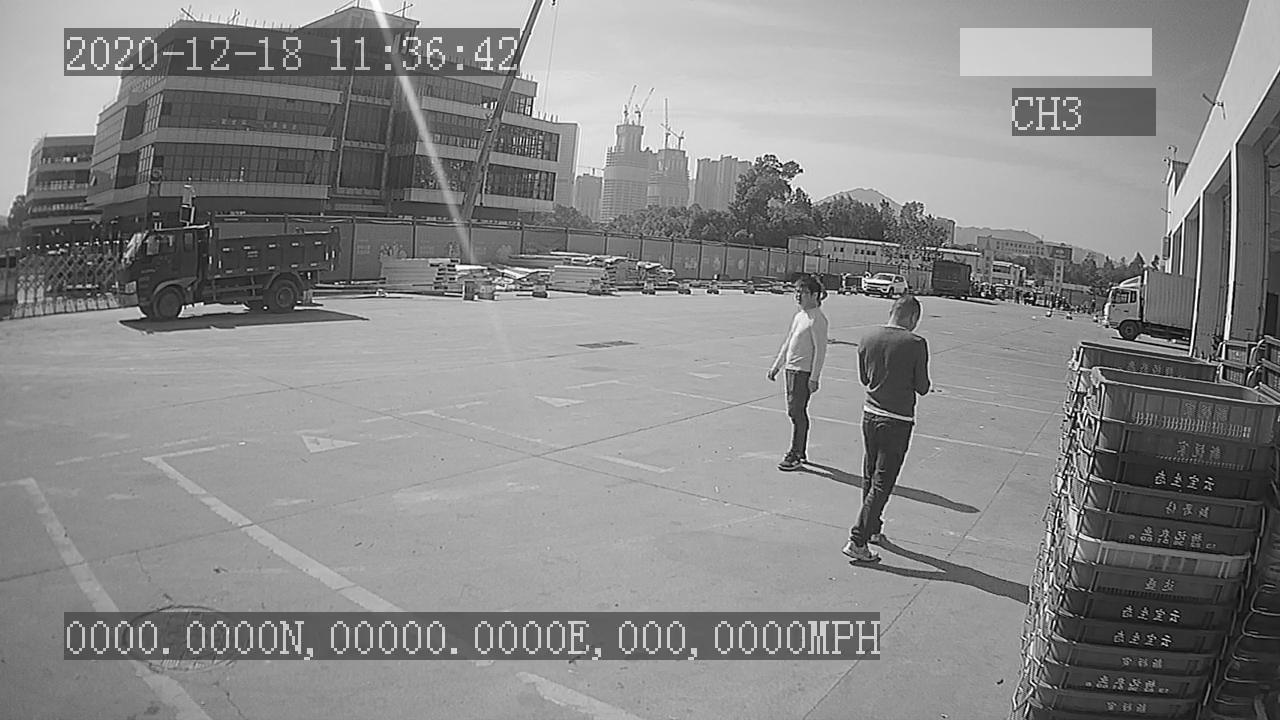person: (838, 293, 933, 570)
